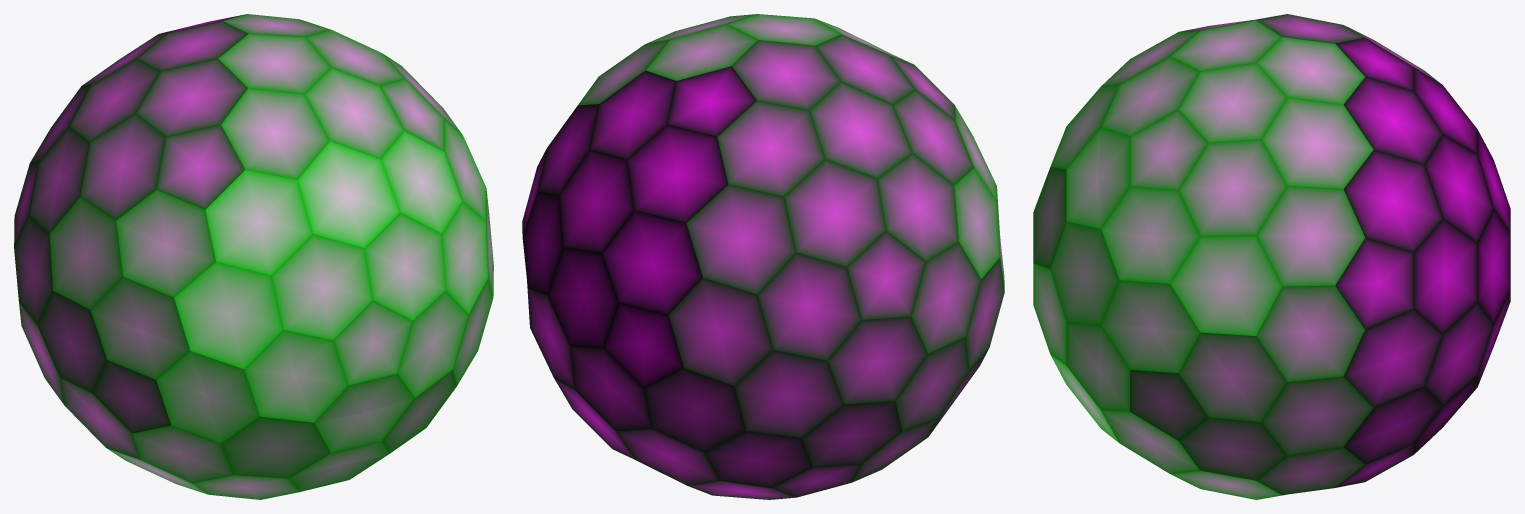
The model's file is SK_fx_hex_sphere01.fbx.
3 views of the same model, side by side, from view 1: azimuth 30°, elevation 25°; view 2: azimuth 150°, elevation 25°; view 3: azimuth 270°, elevation 25° (orthographic).
Parts seen in each view (by area): view 1: SK_fx_hex_sphere01; view 2: SK_fx_hex_sphere01; view 3: SK_fx_hex_sphere01.
Part boxes in pixels (left/top/right/bottom): SK_fx_hex_sphere01: left=14, top=14, right=493, bottom=499; SK_fx_hex_sphere01: left=522, top=14, right=1004, bottom=499; SK_fx_hex_sphere01: left=1033, top=14, right=1510, bottom=499.
Bounding box in the file's own units: 1.93 × 1.94 × 1.91.
